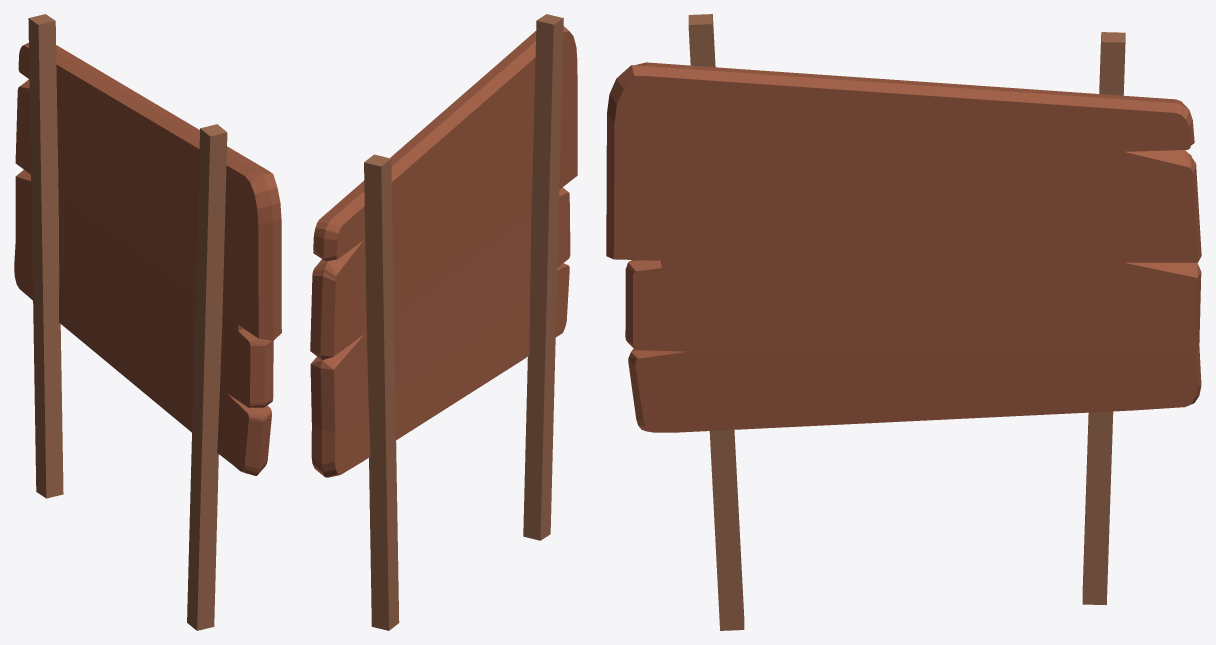
The picture shows the model from 3 angles, left to right: view 1: azimuth 30°, elevation 25°; view 2: azimuth 150°, elevation 25°; view 3: azimuth 270°, elevation 25°; orthographic projection. The views are drawn at different scales.
Visible parts, largest first — view 1: 立方体, Cube, Cube.001; view 2: 立方体, Cube, Cube.001; view 3: 立方体, Cube.001, Cube.
Boxes of the visible parts, x1,y1,x2,y2 form: 立方体: [14, 43, 281, 475]; Cube: [187, 124, 227, 630]; Cube.001: [28, 14, 63, 498]; 立方体: [310, 26, 577, 477]; Cube: [523, 14, 563, 540]; Cube.001: [364, 154, 399, 630]; 立方体: [606, 62, 1201, 432]; Cube.001: [1082, 32, 1125, 605]; Cube: [688, 14, 744, 630].
Size of the model in its own units: 92.44 by 1101 by 979.
